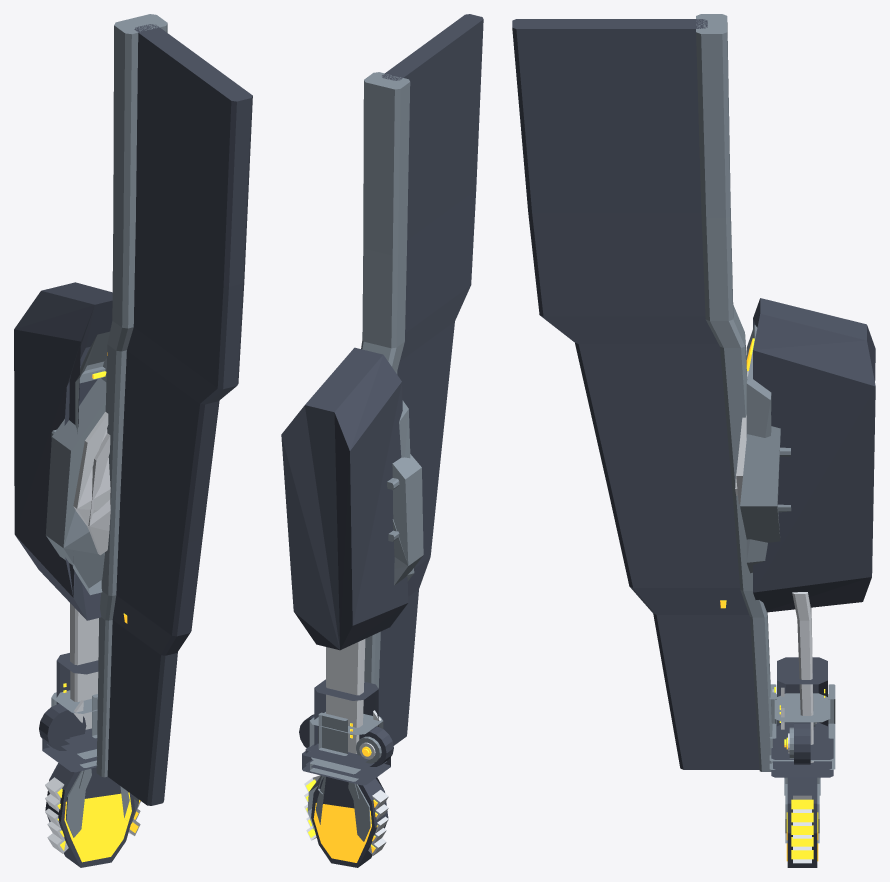
File: LaserRipperArmW_Right_T1.glb
3 views of the same model, side by side, from view 1: azimuth 30°, elevation 25°; view 2: azimuth 150°, elevation 25°; view 3: azimuth 270°, elevation 25° (orthographic). The views are drawn at different scales.
Visible parts, largest first — view 1: BasicArmW_Right_Skel_part00, BasicArmW_Right_Skel_part01, Laser Ripper Receiver, Photon Cutting Edge (Animated), BasicArmW_Right_Skel_part02, Ripper Blade Rails, Alternating Laser Teeth; view 2: BasicArmW_Right_Skel_part00, BasicArmW_Right_Skel_part01, Laser Ripper Receiver, Ripper Blade Rails, BasicArmW_Right_Skel_part02, Photon Cutting Edge (Animated), Alternating Laser Teeth; view 3: BasicArmW_Right_Skel_part00, BasicArmW_Right_Skel_part01, Laser Ripper Receiver, Ripper Blade Rails, BasicArmW_Right_Skel_part02, Photon Cutting Edge (Animated).
Part boxes in pixels (x1,y1,x2,y2): BasicArmW_Right_Skel_part00: (96,14,252,805); BasicArmW_Right_Skel_part01: (14,282,112,620); Laser Ripper Receiver: (39,653,134,867); Photon Cutting Edge (Animated): (57,683,140,862); BasicArmW_Right_Skel_part02: (70,603,127,729); Ripper Blade Rails: (51,690,139,837); Alternating Laser Teeth: (45,700,140,853); BasicArmW_Right_Skel_part00: (361,14,483,745); BasicArmW_Right_Skel_part01: (281,347,423,650); Laser Ripper Receiver: (299,679,393,867); Ripper Blade Rails: (307,712,383,841); BasicArmW_Right_Skel_part02: (326,639,365,753); Photon Cutting Edge (Animated): (306,723,377,862); Alternating Laser Teeth: (304,710,388,855); BasicArmW_Right_Skel_part00: (512,14,772,771); BasicArmW_Right_Skel_part01: (735,298,875,612); Laser Ripper Receiver: (771,657,833,867); Ripper Blade Rails: (769,684,835,843); BasicArmW_Right_Skel_part02: (720,592,813,762); Photon Cutting Edge (Animated): (774,687,825,861).
Bounding box in the file's own units: 2.22 × 16.69 × 6.55.
